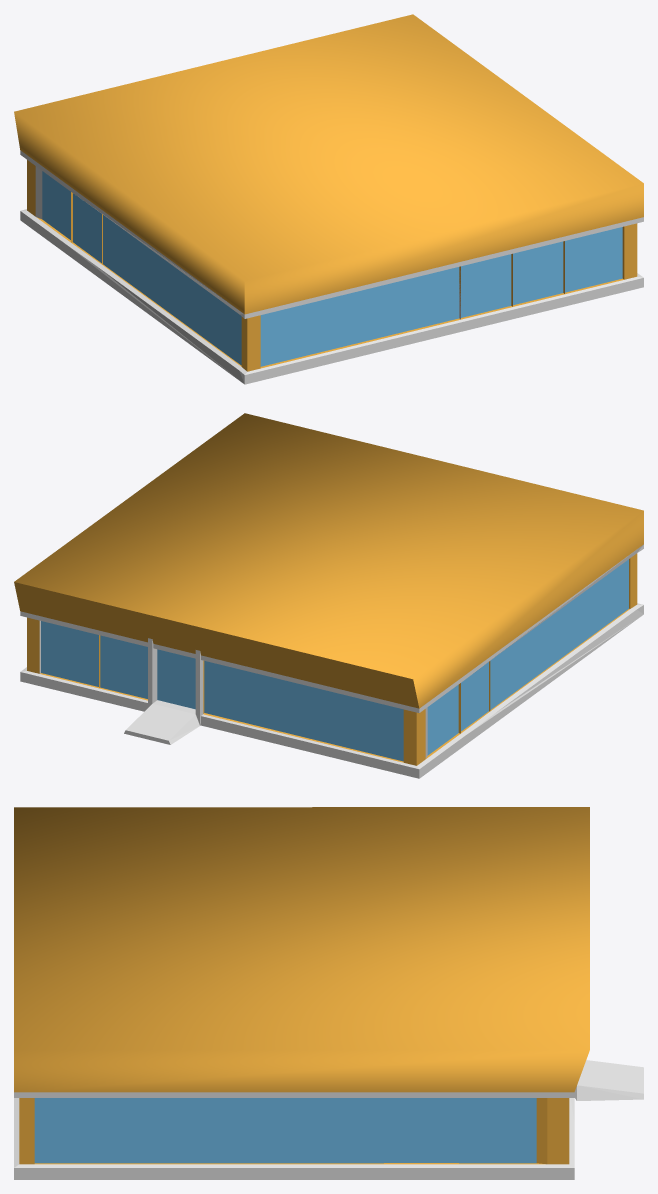
The model's file is Shop8x8x2Orange.fbx.
3 views of the same model, one above another, from view 1: azimuth 30°, elevation 25°; view 2: azimuth 150°, elevation 25°; view 3: azimuth 270°, elevation 25° (orthographic). The views are drawn at different scales.
Visible parts, largest first — view 1: Shop.001; view 2: Shop.001; view 3: Shop.001.
Boxes of the visible parts, x1,y1,x2,y2 form: Shop.001: (14,14,643,384); Shop.001: (14,413,643,778); Shop.001: (14,807,643,1179).
Bounding box in the file's own units: 7.96 × 1.98 × 8.72.
Materials: 1 (1 with a texture image).
